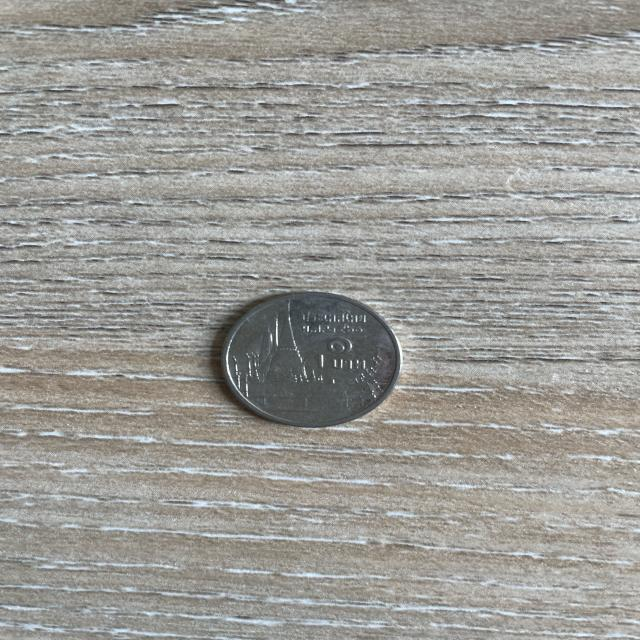1 Bath: (217, 286, 410, 436)
